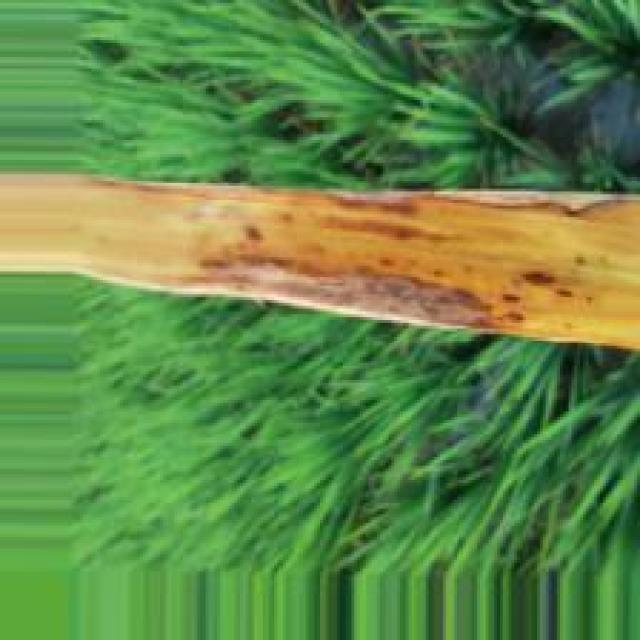Rice False Smut: (178, 229, 514, 329), (236, 186, 635, 221), (520, 264, 558, 293)
